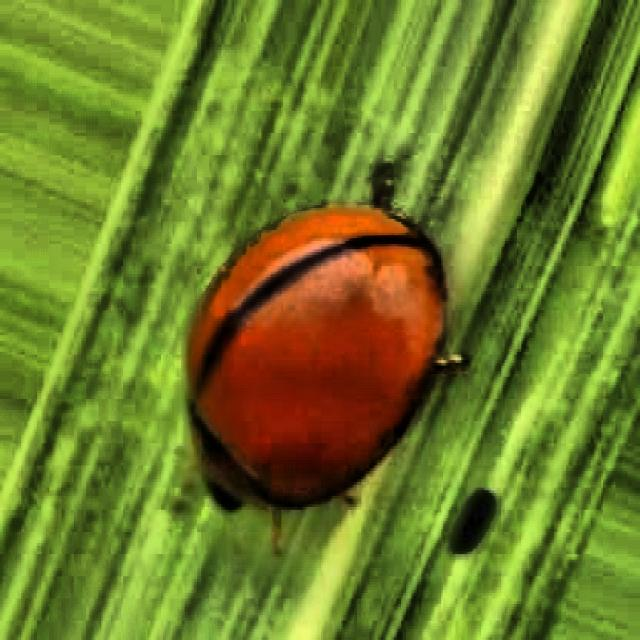Ladybug: (114, 110, 505, 632)
